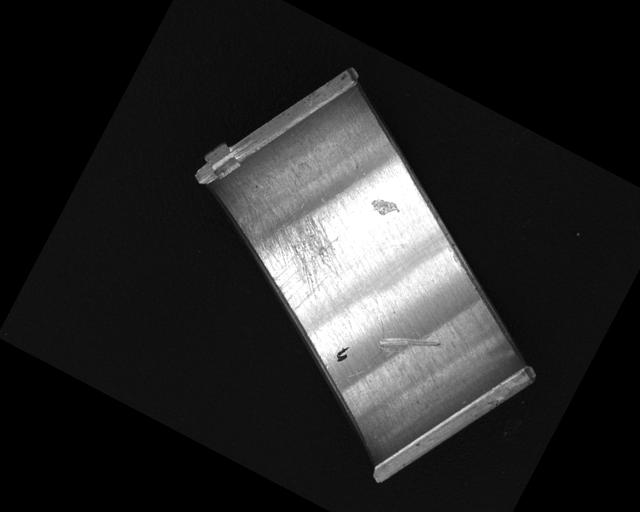blot: (332, 343, 352, 365)
bruise: (366, 192, 402, 223)
nick: (330, 311, 392, 396), (376, 316, 441, 372)
scratch: (217, 182, 362, 324)
